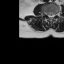CCS_normal: (49, 11, 51, 21)
LFS_normal: (53, 11, 55, 18)
LLS_normal: (51, 12, 53, 20)
RFS_normal: (45, 10, 47, 17)
RLS_normal: (47, 12, 49, 20)
